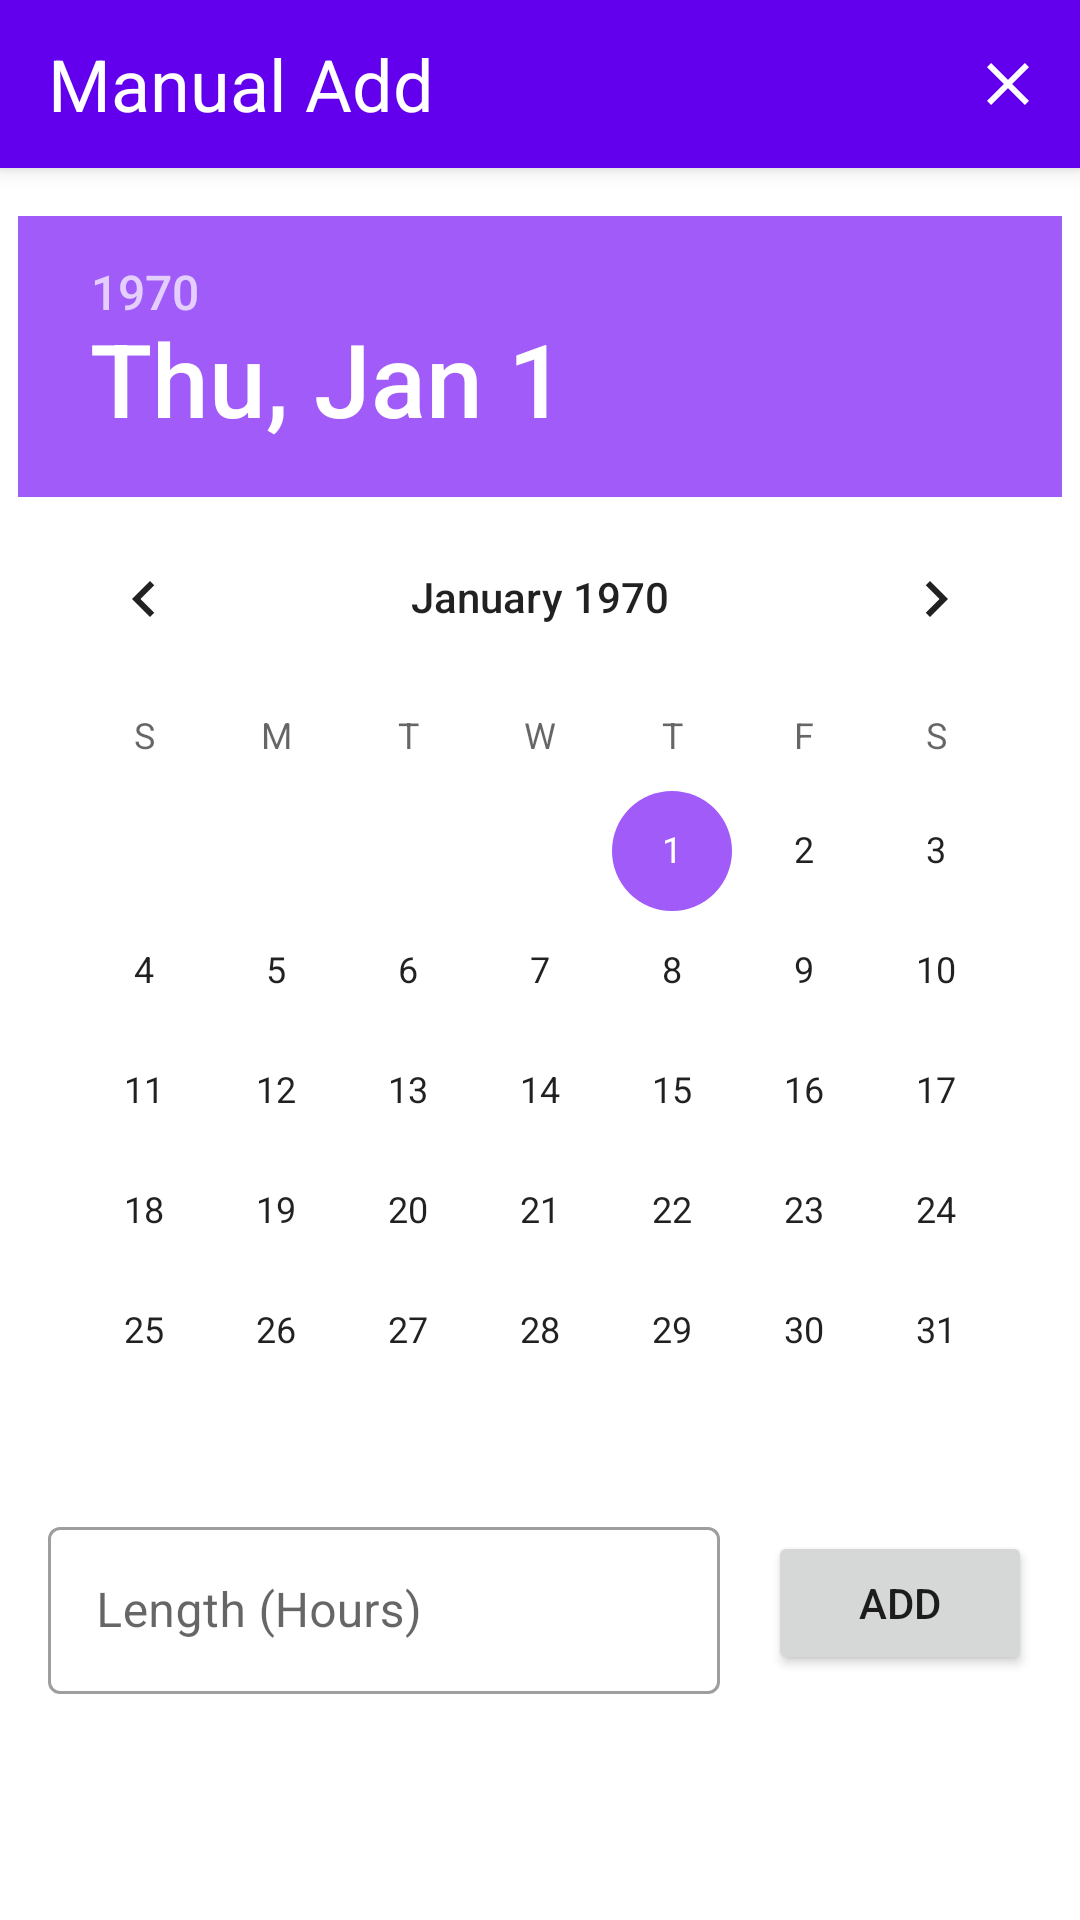

Where to tap for icons on this 1080 × 1920 app screen, as (x=x, y=y):
close: (x=1008, y=84)
